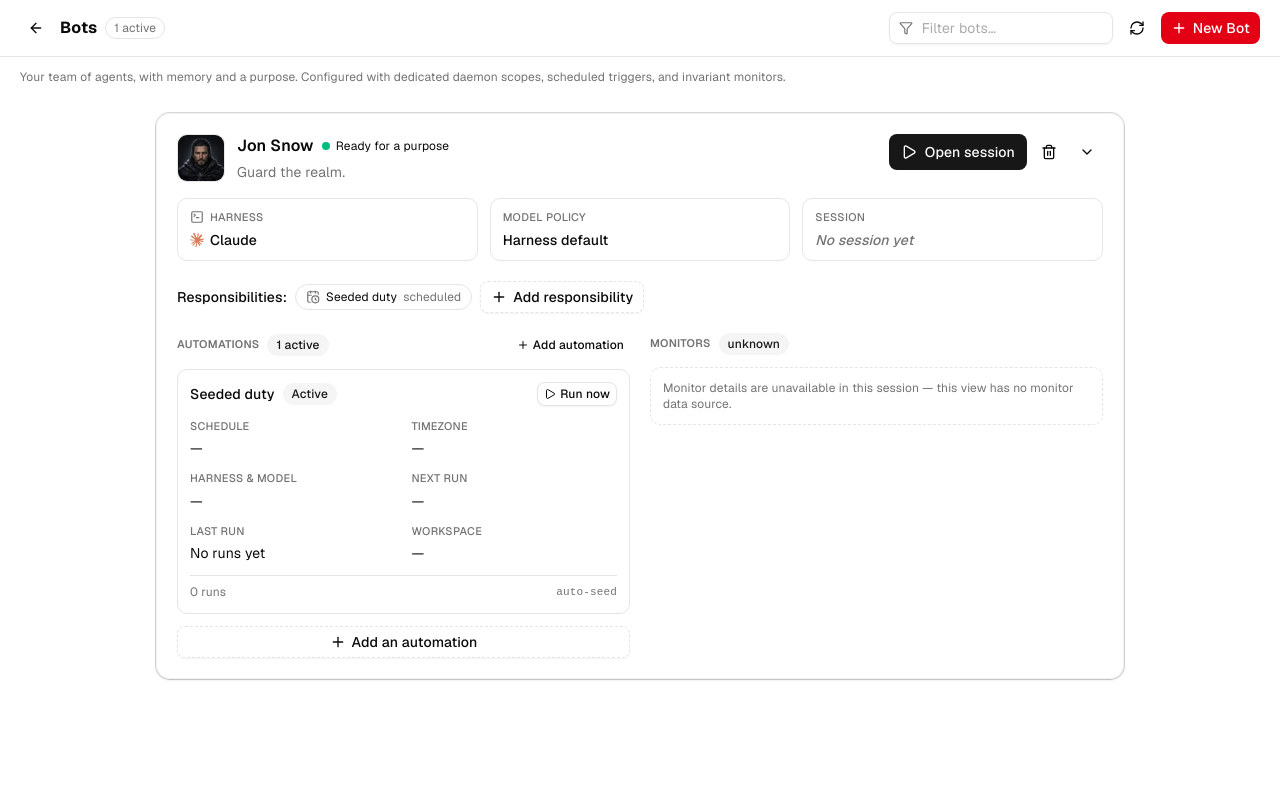
Test case: bot open session › explains instead of no-op when no scope is known
The image size is (1280, 800).
Click the button with test id "open-session-bot-1": (958, 152) [889,134,1027,170]
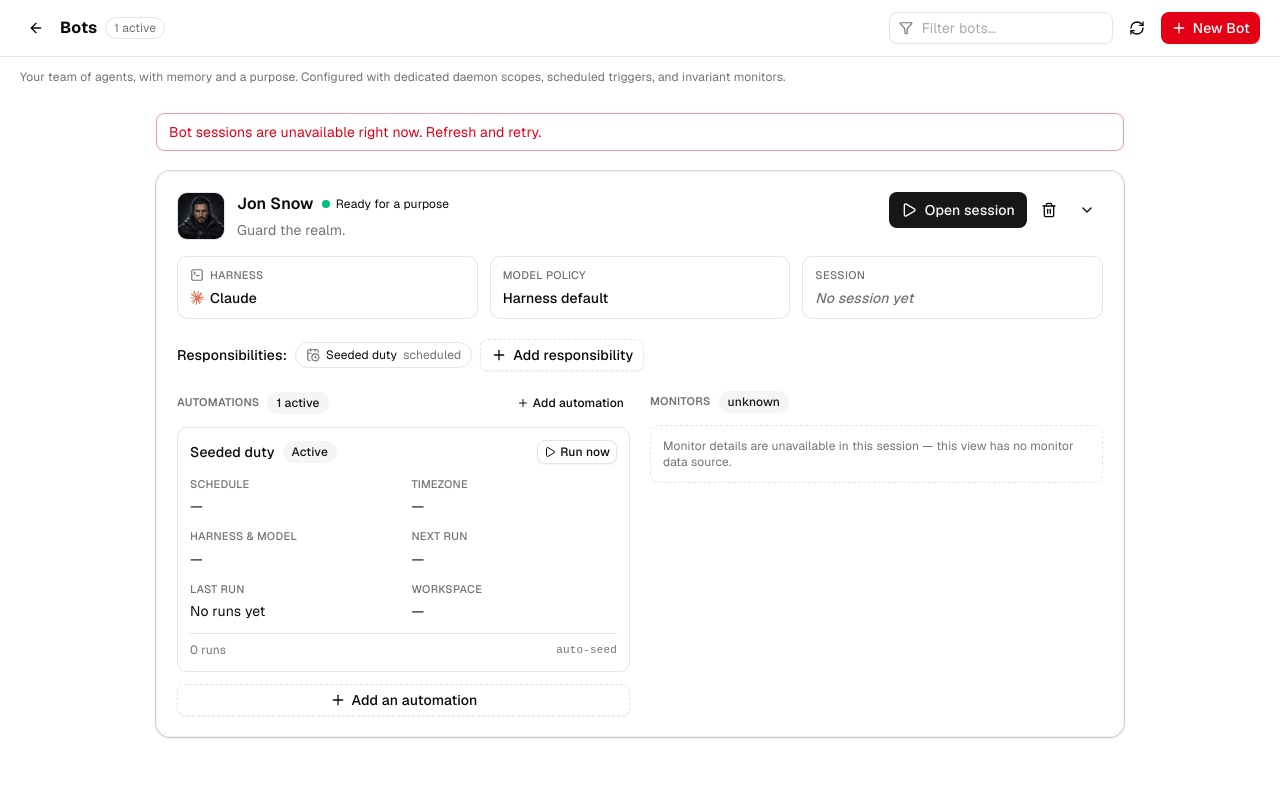
Expected: the message shows "unavailable", [169,123,541,141]
